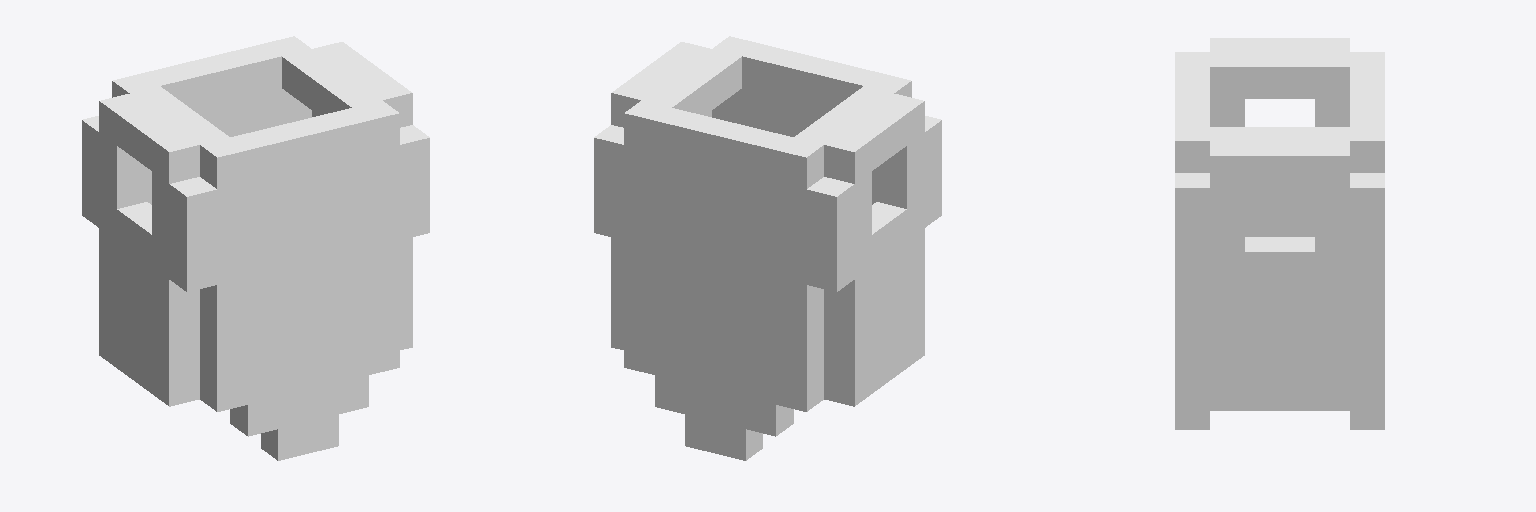
The model's file is ArmorARPG.obj.
The picture shows the model from 3 angles: view 1: azimuth 30°, elevation 25°; view 2: azimuth 150°, elevation 25°; view 3: azimuth 270°, elevation 25°; orthographic projection.
Visible parts, largest first — view 1: object 1; view 2: object 1; view 3: object 1.
Boxes of the visible parts, x1,y1,x2,y2 form: object 1: [82, 36, 429, 460]; object 1: [594, 36, 941, 460]; object 1: [1175, 38, 1384, 429].
Size of the model in its own units: 0.8 by 1 by 0.6.